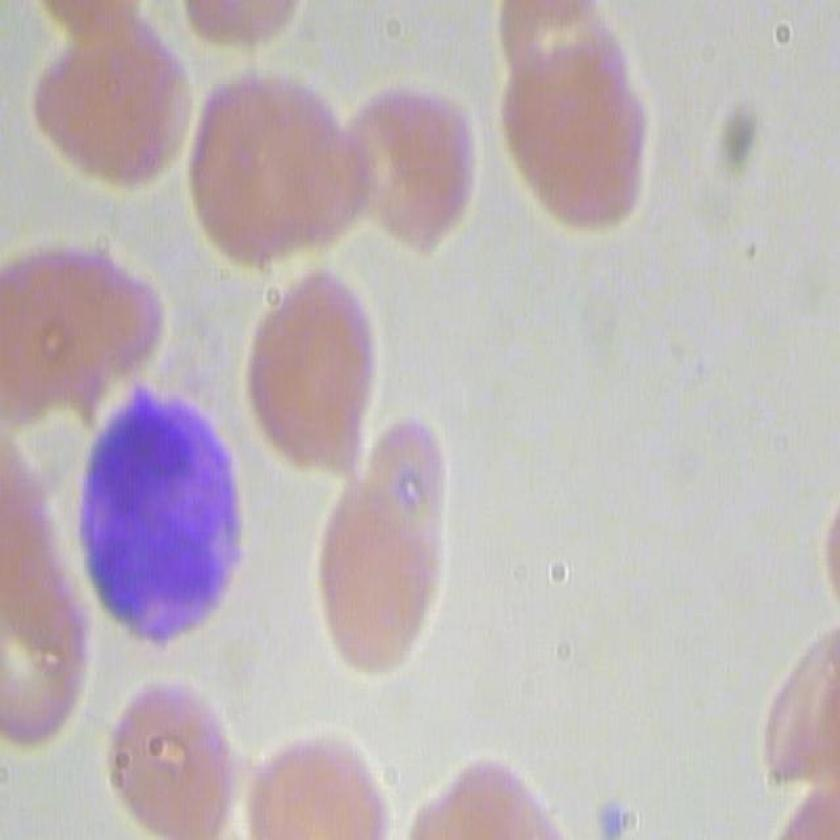basophil: (77, 365, 252, 635)
